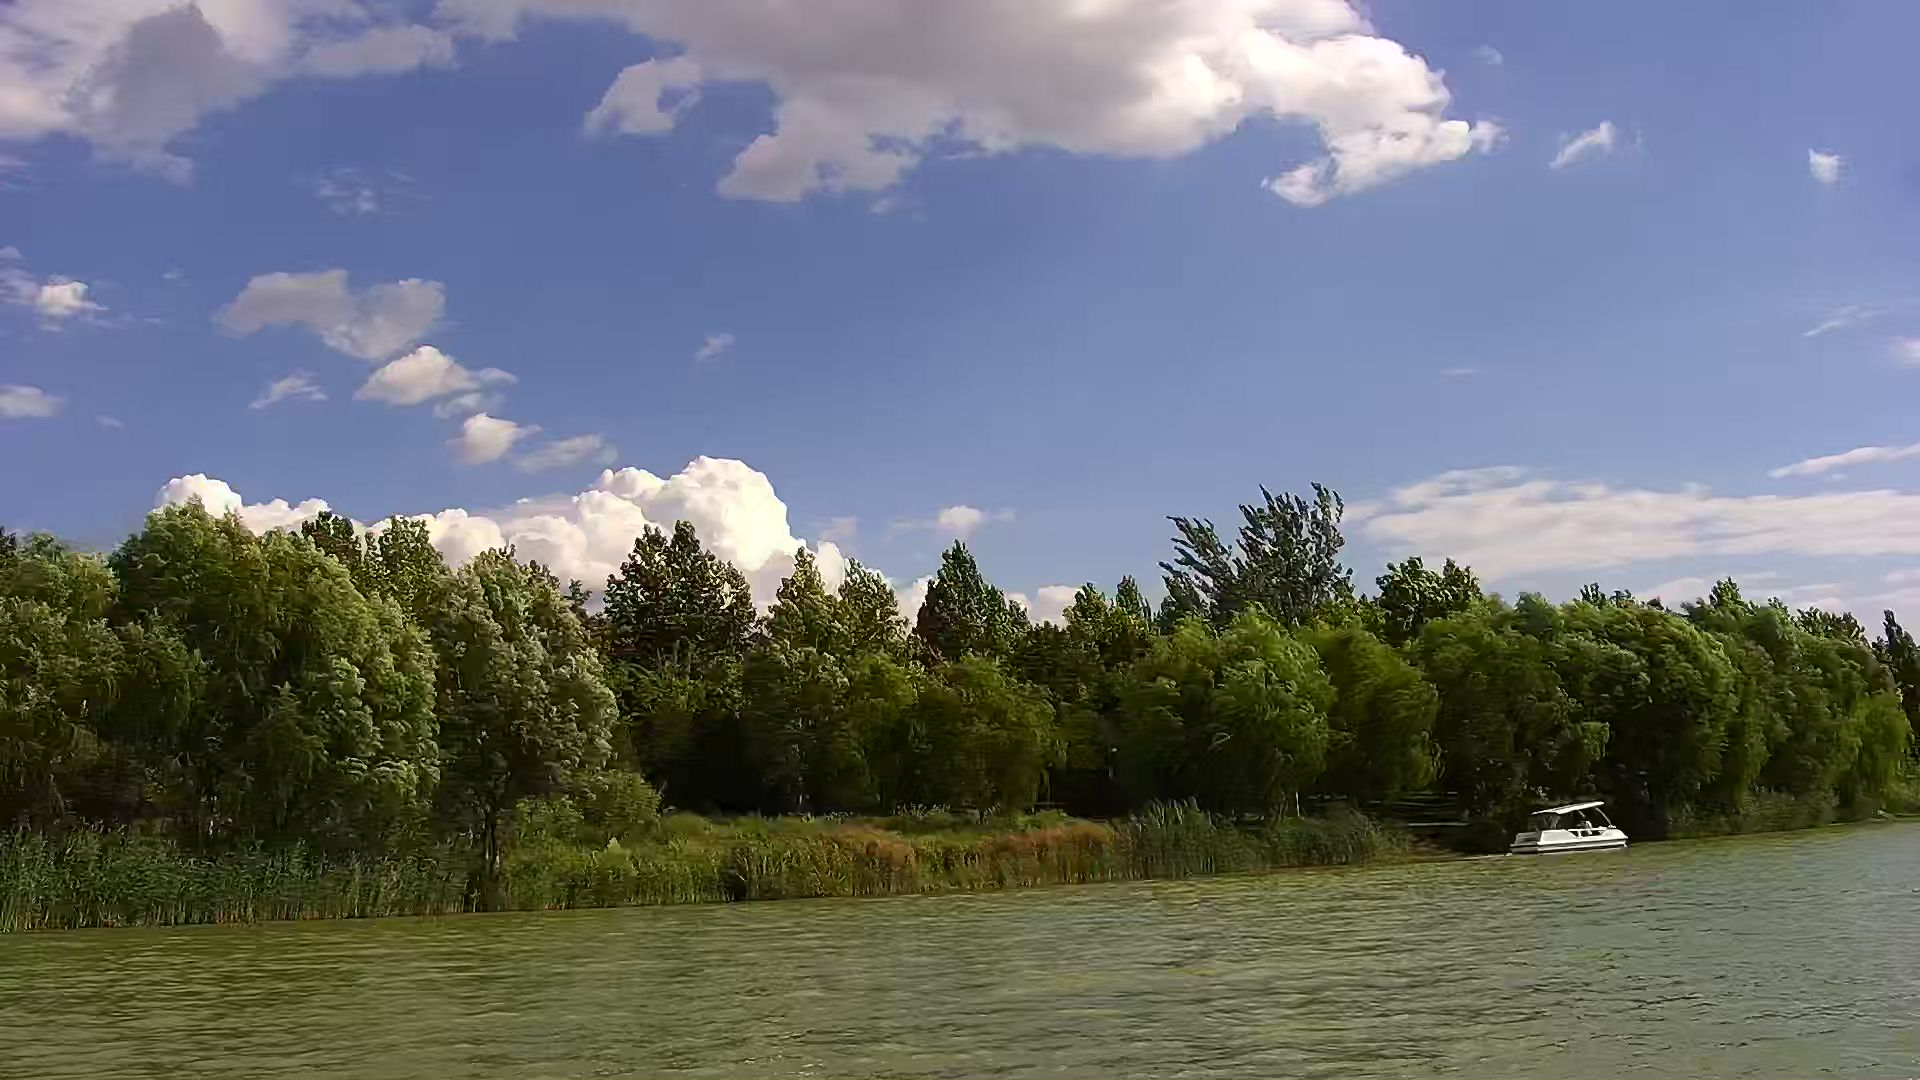boat: (1506, 798, 1633, 856)
